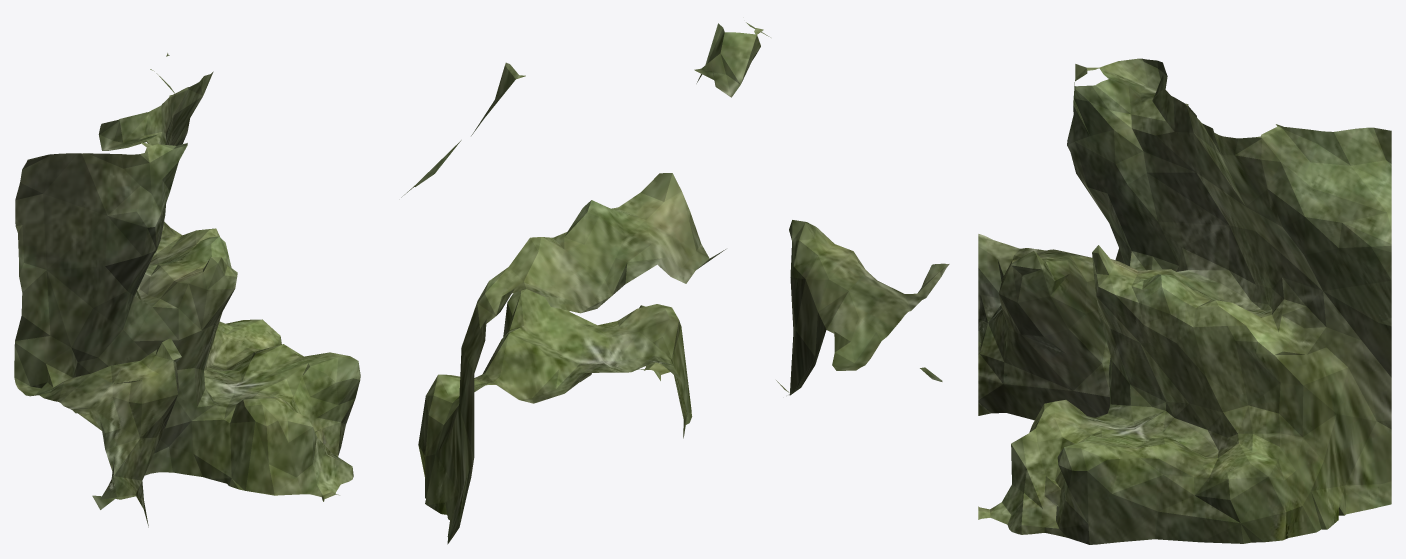
The picture shows the model from 3 angles, left to right: view 1: azimuth 30°, elevation 25°; view 2: azimuth 150°, elevation 25°; view 3: azimuth 270°, elevation 25°; orthographic projection. The views are drawn at different scales.
Size of the model in its own units: 2.75 by 2.95 by 2.95.
Materials: 4 (4 with a texture image).
